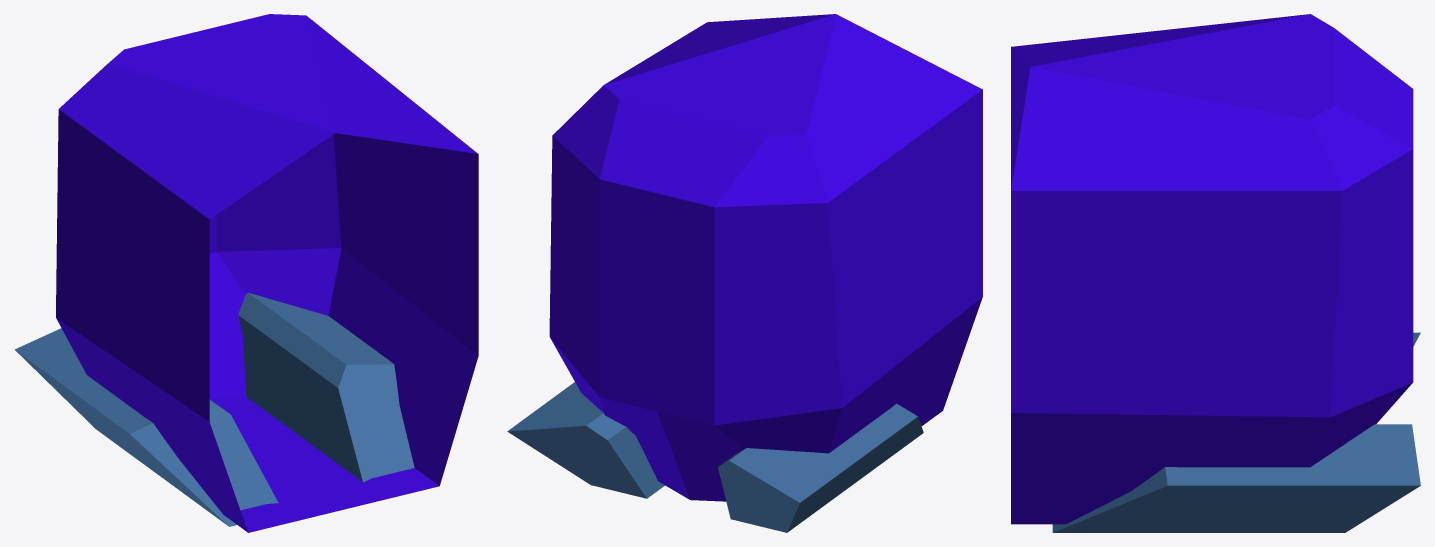
Rendered from Hull.fbx.
3 views of the same model, side by side, from view 1: azimuth 30°, elevation 25°; view 2: azimuth 150°, elevation 25°; view 3: azimuth 270°, elevation 25° (orthographic). The views are drawn at different scales.
Parts seen in each view (by area): view 1: Plane, Cockpit Sides; view 2: Plane, Cockpit Sides; view 3: Plane, Cockpit Sides.
Boxes of the visible parts, <box> form: Plane: <box>56,14,478,532</box>; Cockpit Sides: <box>14,292,414,526</box>; Plane: <box>549,14,982,501</box>; Cockpit Sides: <box>507,382,923,532</box>; Plane: <box>1011,14,1413,524</box>; Cockpit Sides: <box>1052,332,1420,532</box>.
Bounding box in the file's own units: 1147 × 1450 × 1299.
